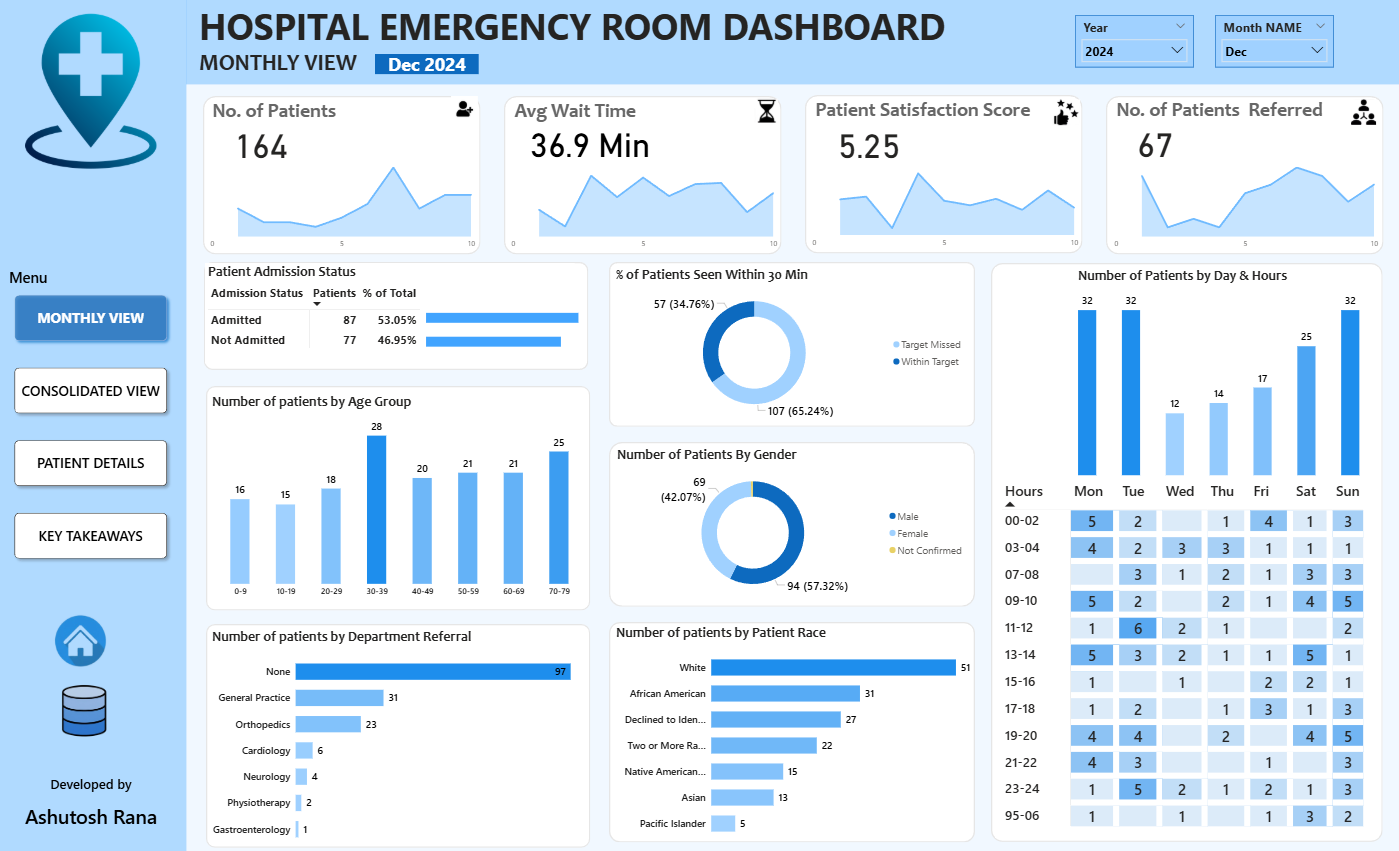

This screenshot's page, from the dashboard's own definition file:
{"tool":"powerbi","page":{"name":"MONTHLY VIEW","canvas":[2300,1400],"ordinal":0},"visuals":[{"type":"shape","box":[1324.7,157.9,455,259.6],"z":0,"group":"g3"},{"type":"shape","box":[338.7,158.6,455,259.6],"z":0,"group":"g1"},{"type":"shape","box":[831.8,158.6,455,259.6],"z":0,"group":"g4"},{"type":"shape","box":[1819.4,158.6,455,259.6],"z":0,"group":"g2"},{"type":"shape","box":[1629.8,433.3,642.1,949.1],"z":0},{"type":"shape","box":[0,0,310.5,1398.2],"z":1000},{"type":"shape","box":[338.6,431.6,630,177],"z":1000,"group":"g5"},{"type":"shape","box":[1003.5,431.6,600,270.2],"z":1000,"group":"g8"},{"type":"shape","box":[310,0,1990.3,140],"z":2000},{"type":"shape","box":[1003.5,726.3,600,270.2],"z":2000,"group":"g9"},{"type":"textbox","box":[325.6,0,1245,94],"z":3000},{"type":"shape","box":[1003.5,1021.1,600,361.4],"z":3000,"group":"g11"},{"type":"textbox","box":[325.6,74.9,278.6,64.4],"z":4000},{"type":"slicer","fields":{"Values":["Date Table.Year"]},"box":[1766.7,26.3,194.7,86],"z":5000},{"type":"slicer","fields":{"Values":["Date Table.Month NAME"]},"box":[1996.5,26.3,194.7,86],"z":6000},{"type":"card","fields":{"Values":["Min(Date Table.Month & Year)"]},"box":[619.3,89.5,170.2,33.3],"z":7000},{"type":"multiRowCard","fields":{"Values":["Hospital ER_Data.Avg Wait Time"]},"box":[870.2,202.6,284.2,70.2],"z":7000,"group":"g4"},{"type":"multiRowCard","fields":{"Values":["Hospital ER_Data.Number of Patient Referred"]},"box":[1865,203.7,101.8,70.2],"z":7000,"group":"g2"},{"type":"multiRowCard","fields":{"Values":["Hospital ER_Data.Number of patients"]},"box":[384.3,204.2,101.8,70.2],"z":7000,"group":"g1"},{"type":"multiRowCard","fields":{"Values":["Avg(Hospital ER_Data.Patient Satisfaction Score)"]},"box":[1372.7,205.5,119.3,71.9],"z":7000,"group":"g3"},{"type":"textbox","box":[1818.7,157.5,371.9,49.1],"z":8000,"group":"g2"},{"type":"group","id":"g1","title":"Group 1","box":[338.5,158.6,455.2,259.8],"z":8000},{"type":"textbox","box":[338.7,158.6,233.3,52.6],"z":8000,"group":"g1"},{"type":"textbox","box":[831.8,158.6,233.3,52.6],"z":8000,"group":"g4"},{"type":"areaChart","fields":{"Category":["Date Table.Date.Variation.Date Hierarchy.Day"],"Y":["Avg(Hospital ER_Data.Patient Satisfaction Score)"]},"box":[1324.6,261.6,456.1,156.1],"z":9000,"group":"g3"},{"type":"areaChart","fields":{"Category":["Date Table.Date.Variation.Date Hierarchy.Day"],"Y":["Hospital ER_Data.Number of patients"]},"box":[338.5,262.3,454.4,156.1],"z":9000,"group":"g1"},{"type":"areaChart","fields":{"Category":["Date Table.Date.Variation.Date Hierarchy.Day"],"Y":["Avg(Hospital ER_Data.Patient Waittime)"]},"box":[831.7,262.3,456.1,156.1],"z":9000,"group":"g4"},{"type":"areaChart","fields":{"Category":["Date Table.Date.Variation.Date Hierarchy.Day"],"Y":["Hospital ER_Data.Number of Patient Referred"]},"box":[1819.7,262.3,452.6,156.1],"z":9000,"group":"g2"},{"type":"textbox","box":[19.3,1266.7,268.4,115.8],"z":9000},{"type":"group","id":"g2","title":"Group 1","box":[1818.7,157.5,455.7,260.9],"z":10000},{"type":"group","id":"g3","title":"Group 1","box":[1324.6,157.9,456.1,259.8],"z":11000},{"type":"textbox","box":[1324.6,157.9,386,52.6],"z":12000},{"type":"group","id":"g4","title":"Group 1","box":[831.7,158.6,456.1,259.8],"z":13000},{"type":"pivotTable","title":"Patient Admission Status","fields":{"Rows":["Hospital ER_Data.Admission status"],"Values":["Hospital ER_Data.Number of patients1","Hospital ER_Data.Number of patients"]},"box":[340.4,433.4,606.3,164.9],"z":13000,"group":"g10"},{"type":"group","id":"g5","title":"Group 3","box":[338.6,431.6,656.1,177.2],"z":14000},{"type":"barChart","fields":{"Category":["Hospital ER_Data.Admission status"],"Y":["Hospital ER_Data.Number of patients"]},"box":[697.7,482.5,297.1,115.8],"z":14000,"group":"g10"},{"type":"group","id":"g6","title":"Group 4","box":[342.1,635.1,631.4,368],"z":15000},{"type":"shape","box":[342.1,635.1,629.8,368],"z":15000,"group":"g6"},{"type":"clusteredBarChart","fields":{"Y":["Hospital ER_Data.Number of patients"],"Category":["Hospital ER_Data.Patient Race"]},"box":[1010.5,1024.6,593,366.7],"z":15000,"group":"g11"},{"type":"clusteredColumnChart","fields":{"Category":["Hospital ER_Data.Age Group"],"Y":["Hospital ER_Data.Number of patients"]},"box":[347.2,647.2,626.3,343.9],"z":16000,"group":"g6"},{"type":"group","id":"g7","title":"Group 5","box":[342.1,1024.6,629.8,372.7],"z":16000},{"type":"group","id":"g8","title":"Group 6","box":[1003.5,431.6,600,270.2],"z":17000},{"type":"shape","box":[342.1,1024.6,629.8,366.7],"z":17000,"group":"g7"},{"type":"group","id":"g9","title":"Group 7","box":[1003.5,726.3,600,270.2],"z":18000},{"type":"clusteredBarChart","fields":{"Category":["Hospital ER_Data.Department Referral"],"Y":["Hospital ER_Data.Number of patients"]},"box":[347.2,1030.6,622.8,366.7],"z":18000,"group":"g7"},{"type":"group","id":"g10","title":"Group 2","box":[340.4,433.4,654.4,164.9],"z":18001,"group":"g5"},{"type":"donutChart","title":"% of Patients Seen Within 30 Min","fields":{"Category":["Hospital ER_Data.Waittime Status"],"Y":["Hospital ER_Data.Number of patients"]},"box":[1010.5,438.6,584.2,256.1],"z":18005,"group":"g8"},{"type":"donutChart","title":"Number of Patients By Gender","fields":{"Y":["Hospital ER_Data.Number of patients"],"Category":["Hospital ER_Data.Patient Gender"]},"box":[1012.3,733.3,584.2,256.1],"z":19000,"group":"g9"},{"type":"group","id":"g11","title":"Group 8","box":[1003.5,1021.1,600,370.2],"z":19000},{"type":"pivotTable","fields":{"Rows":["Hospital ER_Data.Waittime Interval"],"Columns":["Date Table.Day Name"],"Values":["Hospital ER_Data.Number of patients"]},"box":[1642.1,786,615.8,585],"z":20000},{"type":"columnChart","title":"Number of Patients by Day & Hours","fields":{"Y":["Hospital ER_Data.Number of patients"],"Category":["Date Table.Day Name"]},"box":[1766.7,438.6,473.7,347.4],"z":21000},{"type":"image","box":[21.1,14,264.9,273.7],"z":22000},{"type":"image","box":[1236.8,107,49.1,152.6],"z":23000},{"type":"image","box":[2214,103.5,50.9,164.9],"z":24000},{"type":"image","box":[1724.6,124.6,56.1,122.8],"z":25000},{"type":"image","box":[738.6,100,54.4,161.4],"z":26000},{"type":"pageNavigator","title":"Menu","box":[19.3,438.6,268.4,489.5],"z":27000},{"type":"image","box":[40,990,203.3,121.7],"z":28000},{"type":"image","box":[78.3,1113.3,125,108.3],"z":29000}]}

Visuals, with their boxes in screenshot pixels (x1, y1, x2, y2), scaled from the page's 2300x1400 canvas onto the 1399x851 screenshot:
shape: [left=806, top=96, right=1083, bottom=254]
shape: [left=206, top=96, right=483, bottom=254]
shape: [left=506, top=96, right=783, bottom=254]
shape: [left=1107, top=96, right=1383, bottom=254]
shape: [left=991, top=263, right=1382, bottom=840]
shape: [left=0, top=0, right=189, bottom=850]
shape: [left=206, top=262, right=589, bottom=370]
shape: [left=610, top=262, right=975, bottom=427]
shape: [left=189, top=0, right=1398, bottom=85]
shape: [left=610, top=441, right=975, bottom=606]
textbox: [left=198, top=0, right=955, bottom=57]
shape: [left=610, top=621, right=975, bottom=840]
textbox: [left=198, top=46, right=368, bottom=85]
slicer - Date Table.Year: [left=1075, top=16, right=1193, bottom=68]
slicer - Date Table.Month NAME: [left=1214, top=16, right=1333, bottom=68]
card - Min(Date Table.Month & Year): [left=377, top=54, right=480, bottom=75]
multiRowCard - Hospital ER_Data.Avg Wait Time: [left=529, top=123, right=702, bottom=166]
multiRowCard - Hospital ER_Data.Number of Patient Referred: [left=1134, top=124, right=1196, bottom=166]
multiRowCard - Hospital ER_Data.Number of patients: [left=234, top=124, right=296, bottom=167]
multiRowCard - Avg(Hospital ER_Data.Patient Satisfaction Score): [left=835, top=125, right=908, bottom=169]
textbox: [left=1106, top=96, right=1332, bottom=126]
"Group 1" group: [left=206, top=96, right=483, bottom=254]
textbox: [left=206, top=96, right=348, bottom=128]
textbox: [left=506, top=96, right=648, bottom=128]
areaChart - Date Table.Date.Variation.Date Hierarchy.Day x Avg(Hospital ER_Data.Patient Satisfaction Score): [left=806, top=159, right=1083, bottom=254]
areaChart - Date Table.Date.Variation.Date Hierarchy.Day x Hospital ER_Data.Number of patients: [left=206, top=159, right=482, bottom=254]
areaChart - Date Table.Date.Variation.Date Hierarchy.Day x Avg(Hospital ER_Data.Patient Waittime): [left=506, top=159, right=783, bottom=254]
areaChart - Date Table.Date.Variation.Date Hierarchy.Day x Hospital ER_Data.Number of Patient Referred: [left=1107, top=159, right=1382, bottom=254]
textbox: [left=12, top=770, right=175, bottom=840]
"Group 1" group: [left=1106, top=96, right=1383, bottom=254]
"Group 1" group: [left=806, top=96, right=1083, bottom=254]
textbox: [left=806, top=96, right=1040, bottom=128]
"Group 1" group: [left=506, top=96, right=783, bottom=254]
"Patient Admission Status" pivotTable: [left=207, top=263, right=576, bottom=364]
"Group 3" group: [left=206, top=262, right=605, bottom=370]
barChart - Hospital ER_Data.Admission status x Hospital ER_Data.Number of patients: [left=424, top=293, right=605, bottom=364]
"Group 4" group: [left=208, top=386, right=592, bottom=610]
shape: [left=208, top=386, right=591, bottom=610]
clusteredBarChart - Hospital ER_Data.Number of patients x Hospital ER_Data.Patient Race: [left=615, top=623, right=975, bottom=846]
clusteredColumnChart - Hospital ER_Data.Age Group x Hospital ER_Data.Number of patients: [left=211, top=393, right=592, bottom=602]
"Group 5" group: [left=208, top=623, right=591, bottom=849]
"Group 6" group: [left=610, top=262, right=975, bottom=427]
shape: [left=208, top=623, right=591, bottom=846]
"Group 7" group: [left=610, top=441, right=975, bottom=606]
clusteredBarChart - Hospital ER_Data.Department Referral x Hospital ER_Data.Number of patients: [left=211, top=626, right=590, bottom=849]
"Group 2" group: [left=207, top=263, right=605, bottom=364]
"% of Patients Seen Within 30 Min" donutChart: [left=615, top=267, right=970, bottom=422]
"Number of Patients By Gender" donutChart: [left=616, top=446, right=971, bottom=601]
"Group 8" group: [left=610, top=621, right=975, bottom=846]
pivotTable - Hospital ER_Data.Waittime Interval x Date Table.Day Name: [left=999, top=478, right=1373, bottom=833]
"Number of Patients by Day & Hours" columnChart: [left=1075, top=267, right=1363, bottom=478]
image: [left=13, top=9, right=174, bottom=175]
image: [left=752, top=65, right=782, bottom=158]
image: [left=1347, top=63, right=1378, bottom=163]
image: [left=1049, top=76, right=1083, bottom=150]
image: [left=449, top=61, right=482, bottom=159]
"Menu" pageNavigator: [left=12, top=267, right=175, bottom=564]
image: [left=24, top=602, right=148, bottom=676]
image: [left=48, top=677, right=124, bottom=743]
